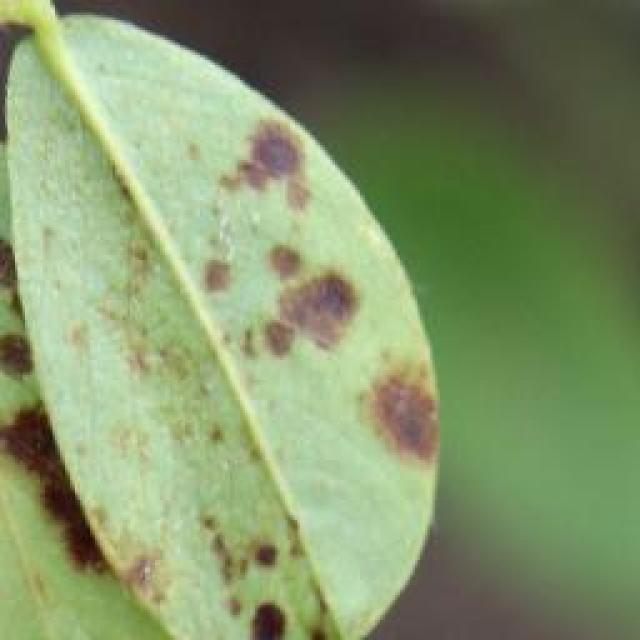Whitefly: (0, 155, 392, 640), (168, 107, 460, 530)
